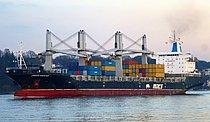Ship: (4, 27, 208, 101)
